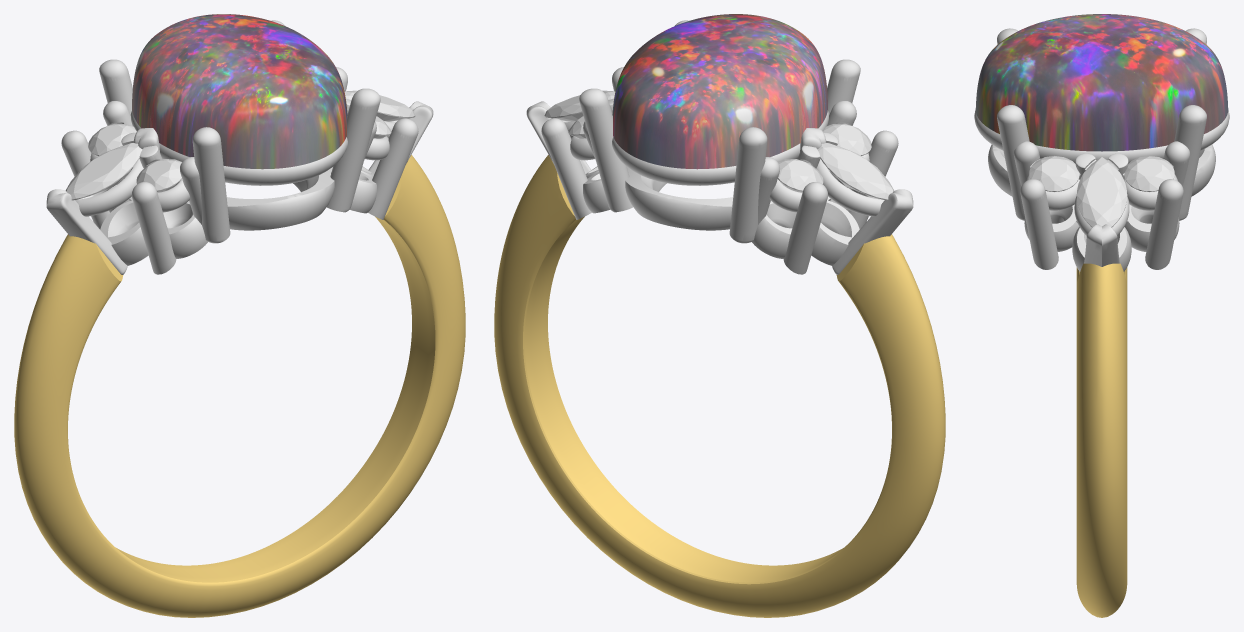
The model's file is ZachOpalRing.glb.
The picture shows the model from 3 angles, left to right: view 1: azimuth 30°, elevation 25°; view 2: azimuth 150°, elevation 25°; view 3: azimuth 270°, elevation 25°; orthographic projection.
Parts seen in each view (by area): view 1: Zach YG for 3d model, Zach PT for 3d model, Zach opal for 3d model, Zach dia for 3d model.001, Zach dia for 3d model.005, Zach dia for 3d model, Zach dia for 3d model.004; view 2: Zach YG for 3d model, Zach PT for 3d model, Zach opal for 3d model, Zach dia for 3d model.001, Zach dia for 3d model, Zach dia for 3d model.005, Zach dia for 3d model.004; view 3: Zach opal for 3d model, Zach PT for 3d model, Zach YG for 3d model, Zach dia for 3d model.004, Zach dia for 3d model.002, Zach dia for 3d model.003.
Part boxes in pixels (left/top/right/bottom): Zach YG for 3d model: left=14, top=155, right=465, bottom=617; Zach PT for 3d model: left=46, top=20, right=433, bottom=274; Zach opal for 3d model: left=132, top=14, right=347, bottom=169; Zach dia for 3d model.001: left=65, top=143, right=142, bottom=200; Zach dia for 3d model.005: left=136, top=159, right=182, bottom=192; Zach dia for 3d model: left=88, top=123, right=136, bottom=155; Zach dia for 3d model.004: left=344, top=90, right=415, bottom=121; Zach YG for 3d model: left=494, top=155, right=945, bottom=617; Zach PT for 3d model: left=526, top=20, right=913, bottom=274; Zach opal for 3d model: left=612, top=14, right=827, bottom=169; Zach dia for 3d model.001: left=817, top=143, right=894, bottom=200; Zach dia for 3d model: left=777, top=159, right=823, bottom=192; Zach dia for 3d model.005: left=823, top=123, right=871, bottom=155; Zach dia for 3d model.004: left=544, top=90, right=615, bottom=121; Zach opal for 3d model: left=975, top=14, right=1228, bottom=151; Zach PT for 3d model: left=974, top=28, right=1229, bottom=271; Zach YG for 3d model: left=1076, top=263, right=1127, bottom=617; Zach dia for 3d model.004: left=1076, top=157, right=1127, bottom=227; Zach dia for 3d model.002: left=1029, top=156, right=1079, bottom=191; Zach dia for 3d model.003: left=1124, top=156, right=1174, bottom=191.
Size of the model in its own units: 20.09 by 24.54 by 10.1.
4 materials, 1 textured.
